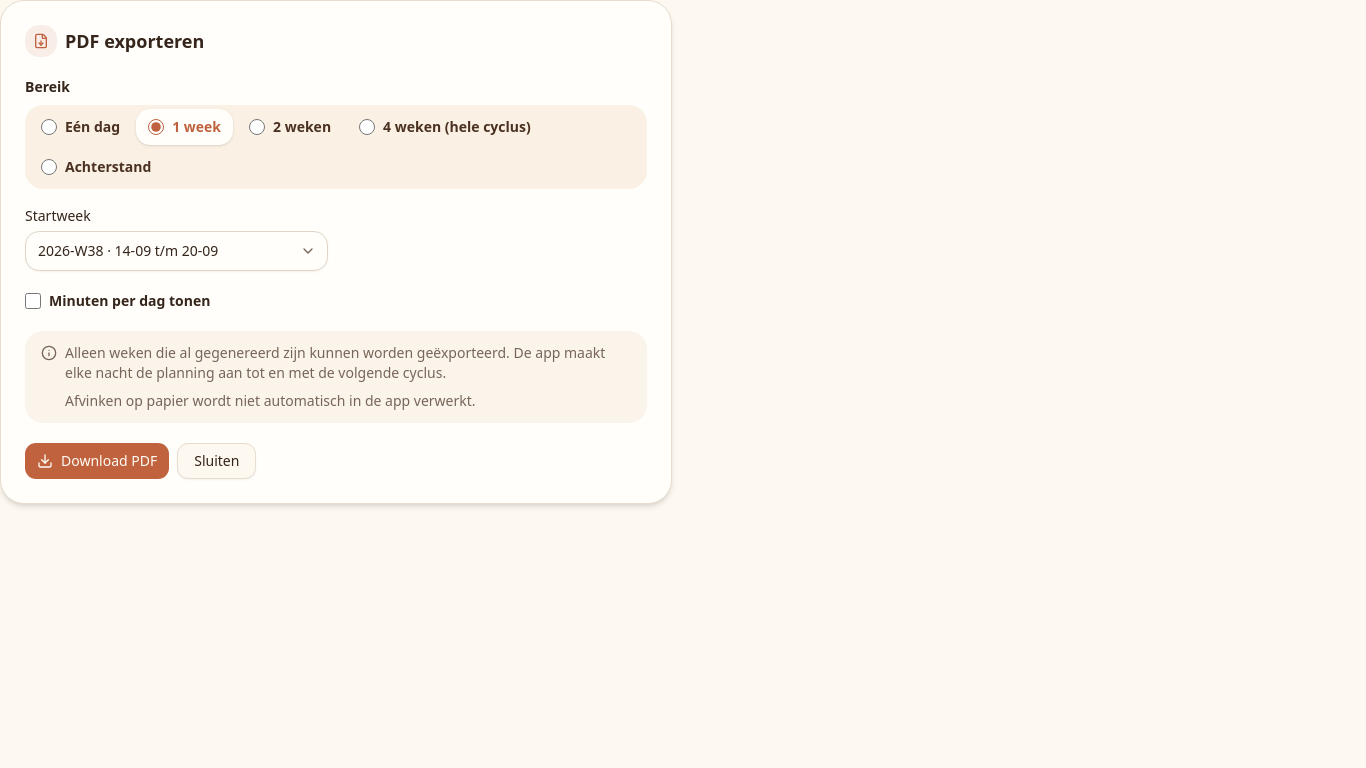
it: ExportDialog › exports the due list regardless of generated weeks
The image size is (1366, 768).
Click the radio button labelled "Achterstand". click: (49, 167)
box: x1=41 y1=159 x2=57 y2=175
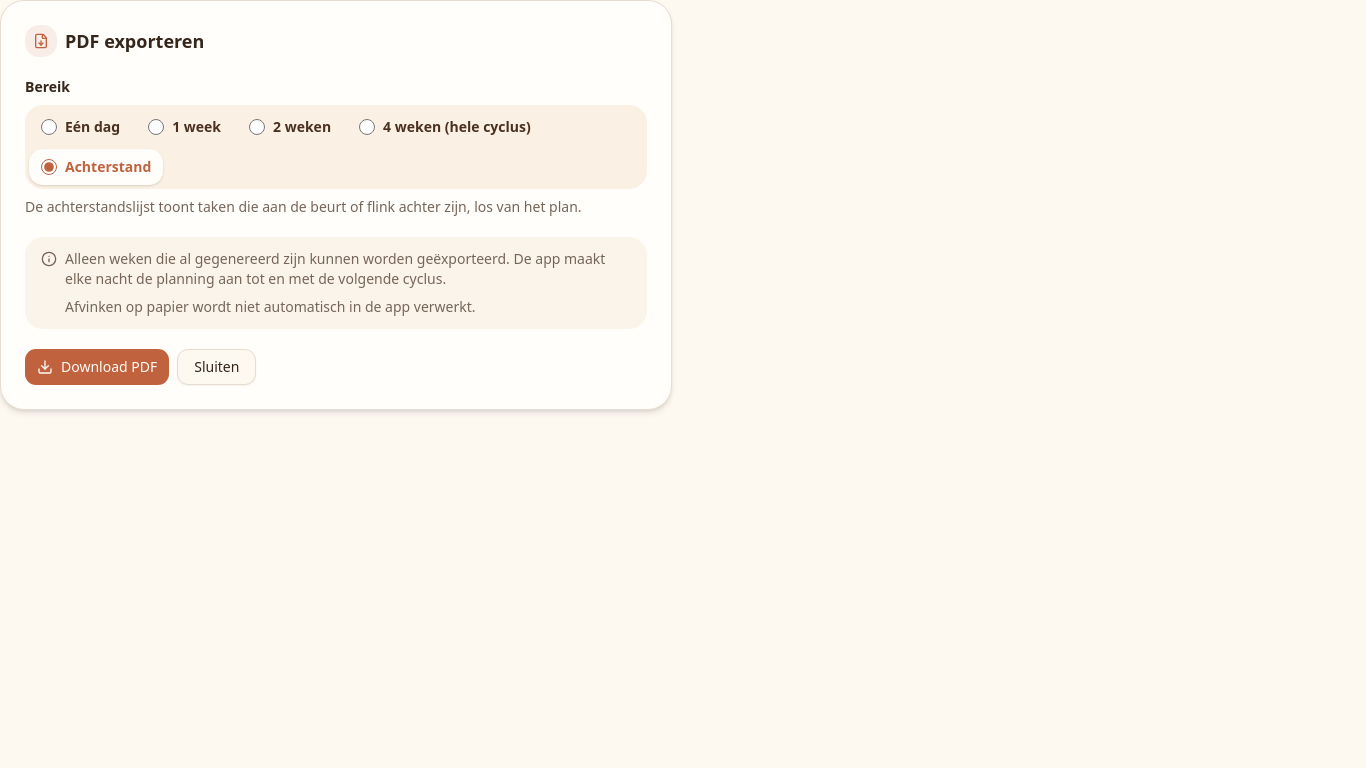
Expected: the label labelled "Startweek" is gone
Expected: the text "aan de beurt of flink achter" is shown, x1=25 y1=197 x2=582 y2=216
